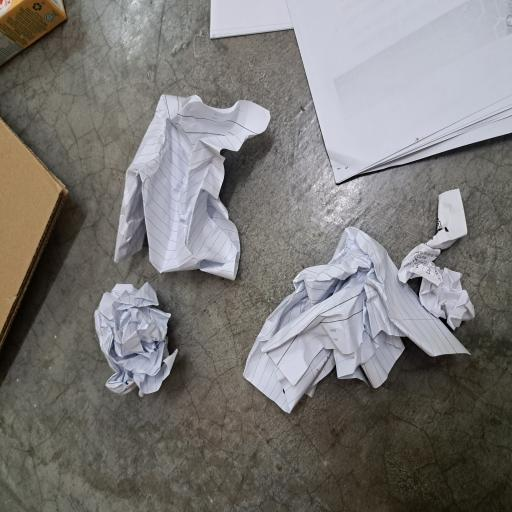cardboard: (127, 0, 298, 93)
drink carton: (334, 0, 384, 90)
paper: (73, 321, 242, 512), (249, 279, 384, 512), (178, 145, 317, 361), (83, 120, 174, 239)
